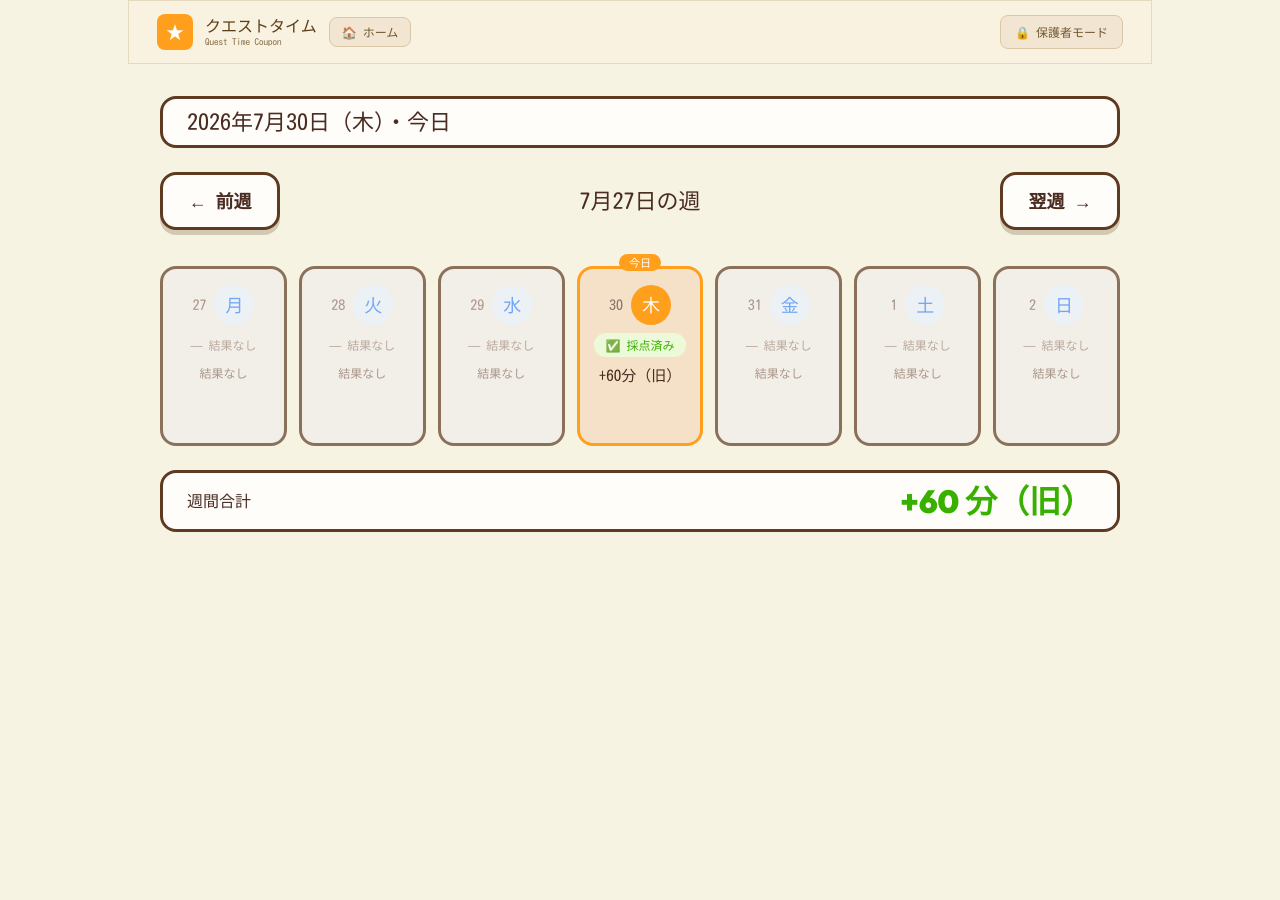
Scenario: ResultsPage reasonCode › breakdown 集計値をフォールバック表示し合計と整合する
The width and height of the screenshot is (1280, 900).
Click the button with test id "results-day-2026-07-30" at [640, 356], box [577, 266, 704, 446]
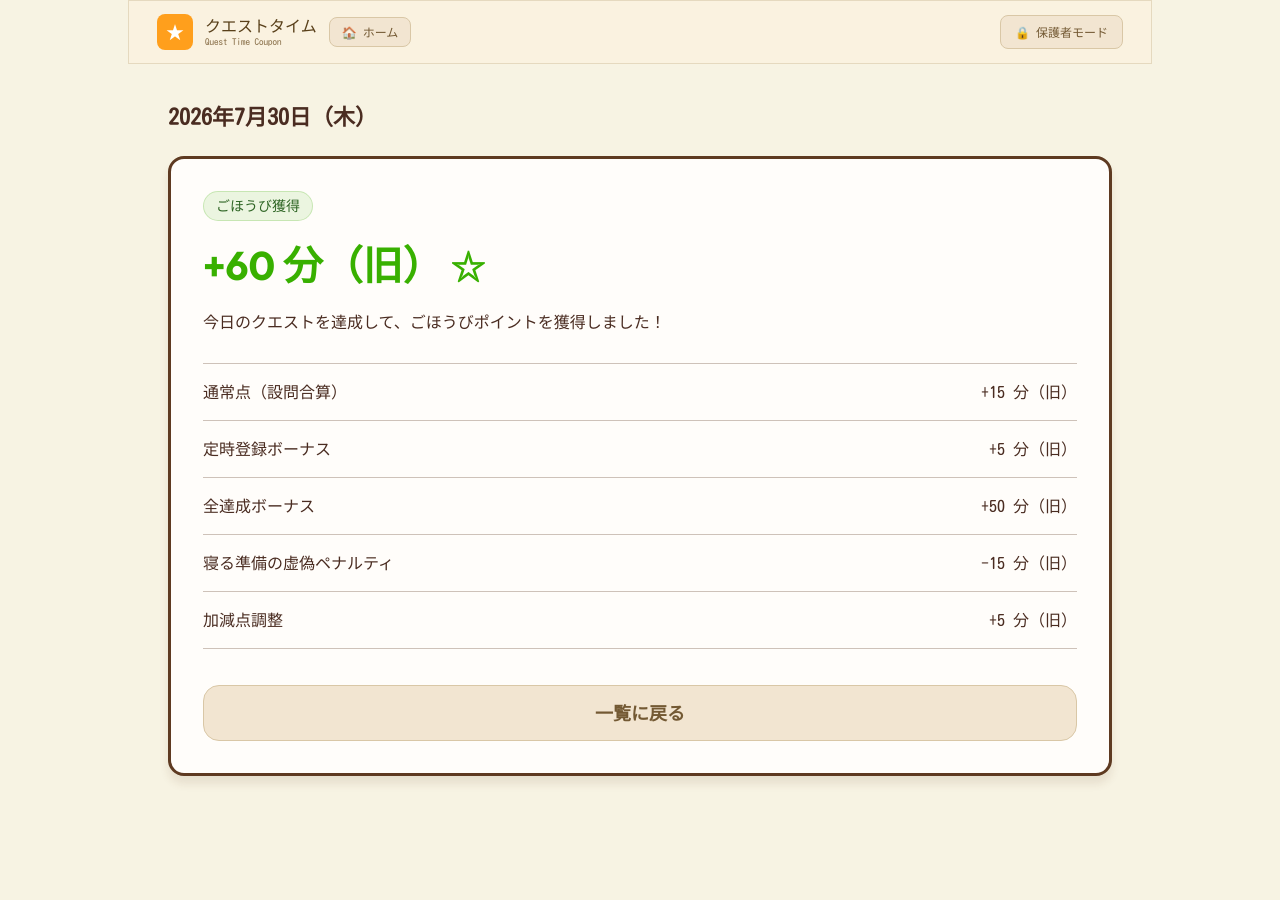
Expected: the number of list items is 5, [203, 362, 1077, 420]; [203, 420, 1077, 478]; [203, 478, 1077, 534]; [203, 534, 1077, 592]; [203, 592, 1077, 648]
Expected: the text "寝る準備の虚偽ペナルティ" is shown, [203, 550, 394, 574]
Expected: the text "加減点調整" is shown, [203, 608, 283, 632]
